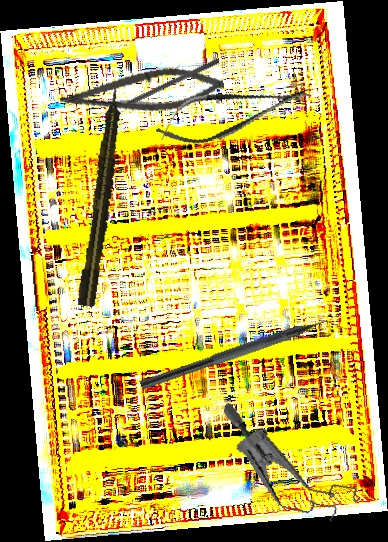Chopper: (139, 308, 348, 404)
Handpiece: (75, 82, 128, 308)
Micro Scissor: (150, 70, 317, 155), (57, 59, 227, 127)
Pusher: (104, 57, 220, 116)
Speculum: (203, 399, 376, 531)
